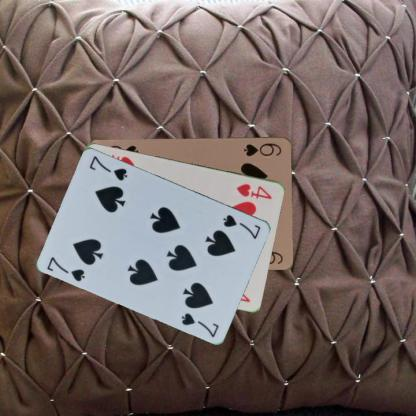4h: (234, 180, 274, 200)
6s: (242, 140, 282, 158)
7s: (44, 254, 86, 284), (220, 211, 262, 240)
